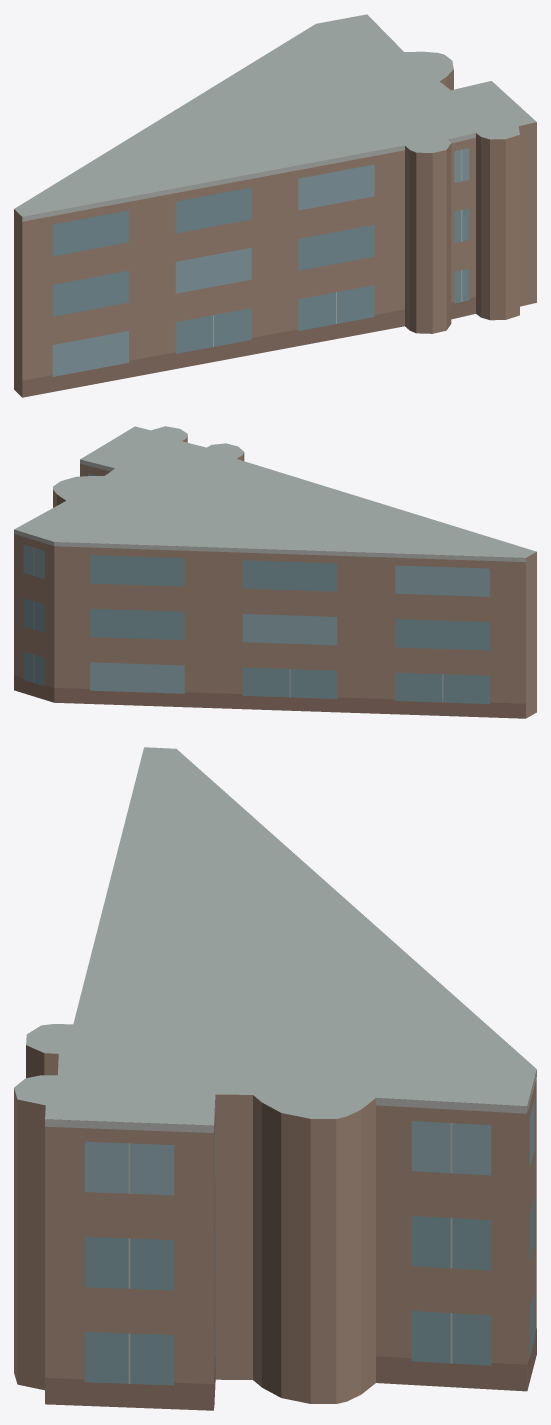
File: survey-upis-33029045.glb
3 renders of one model, top to bottom at view 1: azimuth 30°, elevation 25°; view 2: azimuth 150°, elevation 25°; view 3: azimuth 270°, elevation 25°, orthographic. The views are drawn at different scales.
Visible parts, largest first — view 1: survey-upis-33029045.tmp; view 2: survey-upis-33029045.tmp; view 3: survey-upis-33029045.tmp.
Part boxes in pixels (<box>): survey-upis-33029045.tmp: <box>14,14,536,397</box>; survey-upis-33029045.tmp: <box>14,426,536,718</box>; survey-upis-33029045.tmp: <box>14,747,536,1410</box>.
Bounding box in the file's own units: 26.04 × 9.15 × 15.21.
